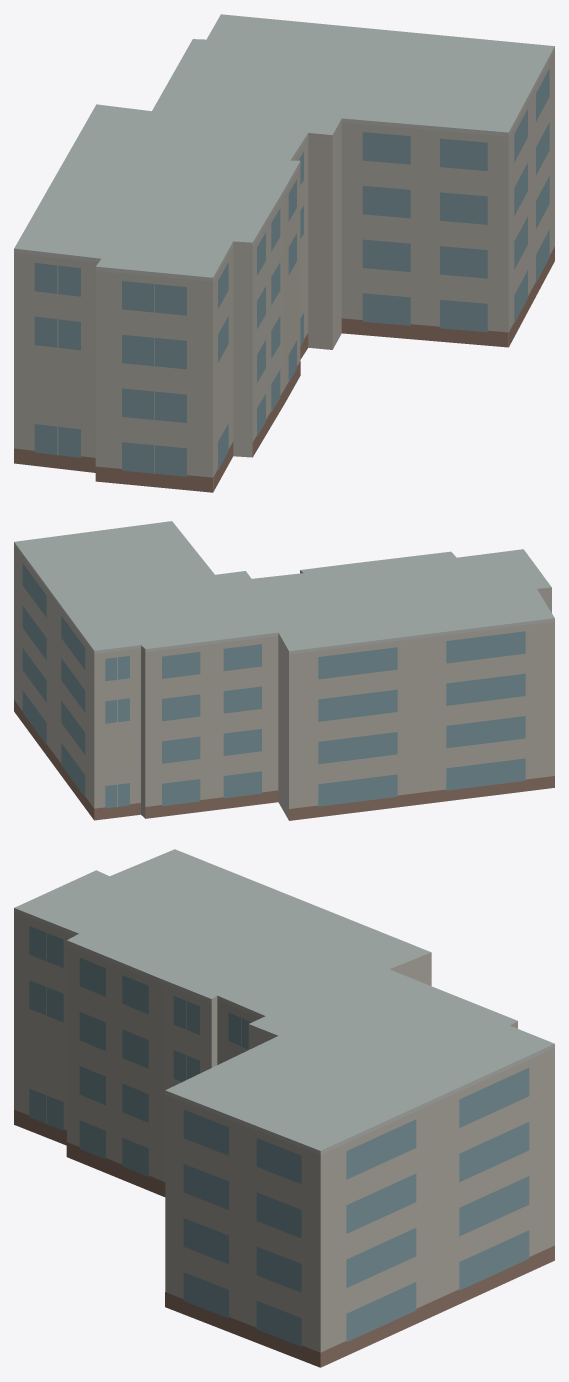
File: survey-upis-33014228.glb
3 views of the same model, one above another, from view 1: azimuth 30°, elevation 25°; view 2: azimuth 150°, elevation 25°; view 3: azimuth 270°, elevation 25° (orthographic). The views are drawn at different scales.
Visible parts, largest first — view 1: survey-upis-33014228.tmp; view 2: survey-upis-33014228.tmp; view 3: survey-upis-33014228.tmp.
Boxes of the visible parts, x1,y1,x2,y2 form: survey-upis-33014228.tmp: (14,14,554,492); survey-upis-33014228.tmp: (14,521,554,820); survey-upis-33014228.tmp: (14,849,554,1367).
Size of the model in its own units: 38.52 by 12.9 by 29.17.
